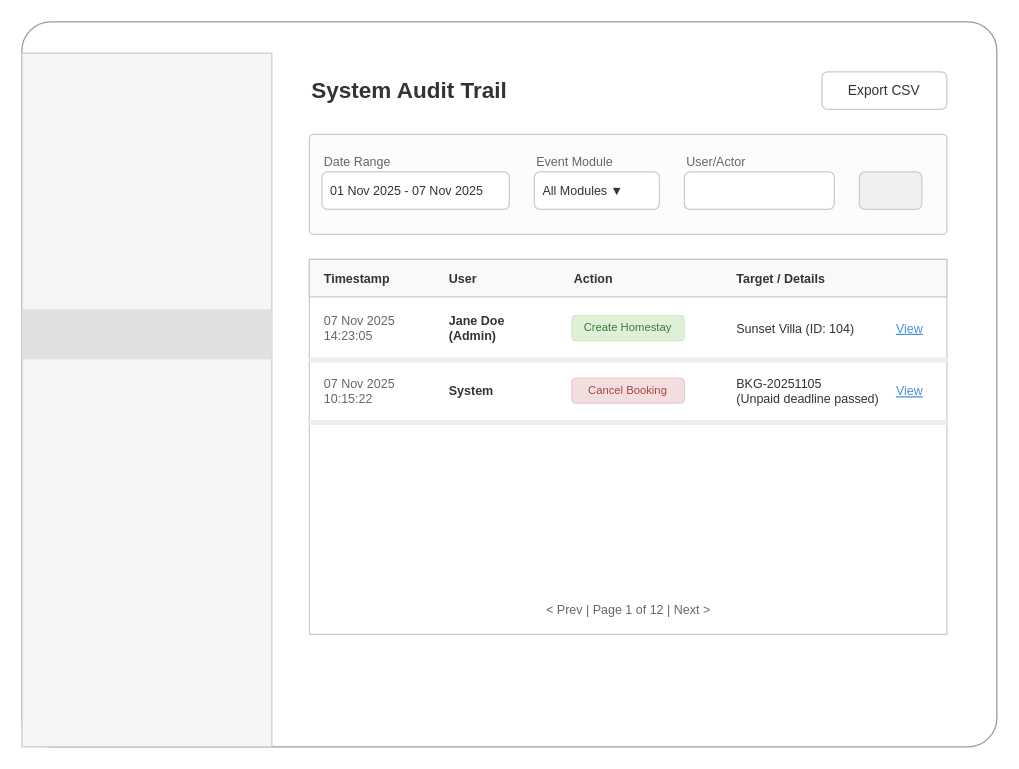
Image size: 1019x769. Some labels were removed from this diagram. Here are the shapes that lost their labels. From the top down, the centre of each, then its label:
At (x=758, y=190): "Search Name...".
At (x=890, y=190): "Filter".
At (x=146, y=334): "Audit Logs".
